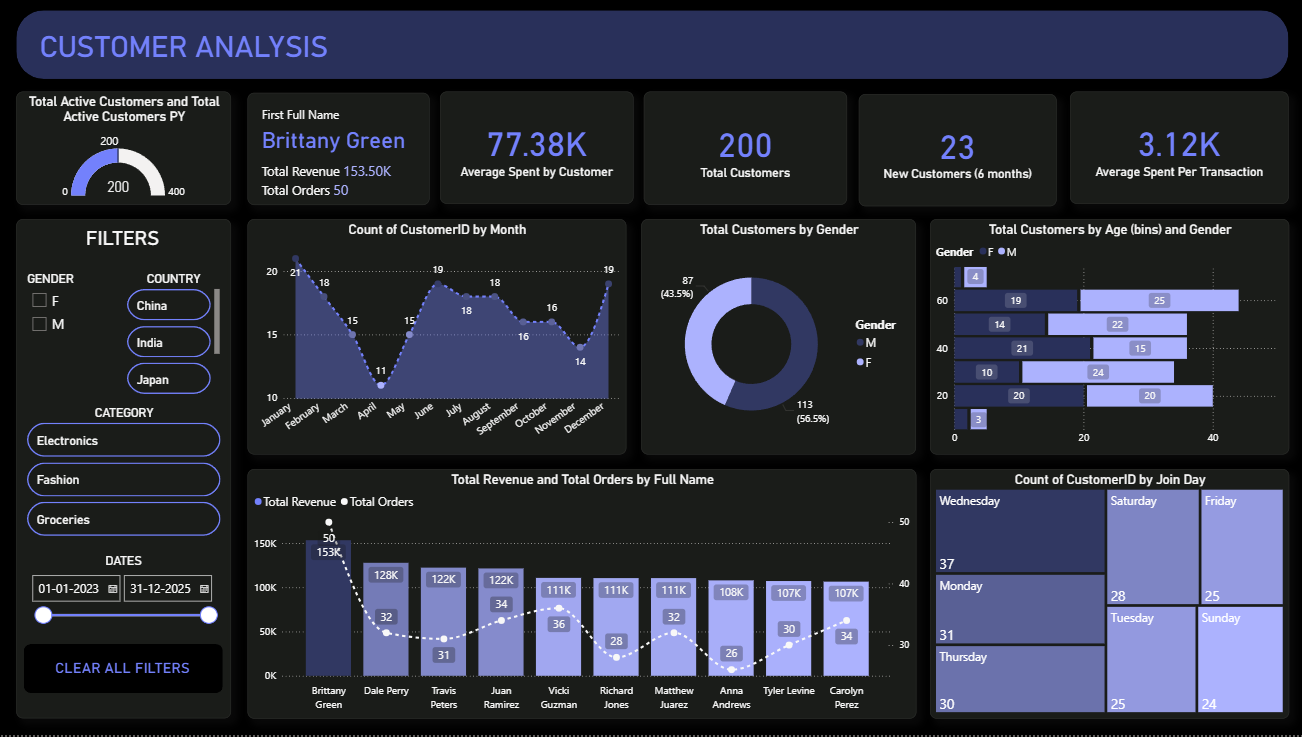

The dashboard page shown, as its layout file describes it:
{"tool":"powerbi","page":{"name":"Customer Analysis","canvas":[1920,1080],"ordinal":3},"visuals":[{"type":"shape","box":[24.7,16.5,1866.9,100.9],"z":0},{"type":"barChart","fields":{"Category":["customers.Age (bins)"],"Y":["Measures Table.Total Customers"],"Series":["customers.Gender"]},"box":[1364.7,323.2,526.9,345.8],"z":1000},{"type":"donutChart","fields":{"Y":["Measures Table.Total Customers"],"Category":["customers.Gender"]},"box":[940.7,323.2,403.4,345.8],"z":2000},{"type":"lineStackedColumnComboChart","fields":{"Y":["Measures Table.Total Revenue"],"Category":["customers.Full Name"],"Y2":["Measures Table.Total Orders"]},"box":[362.3,689.5,981.8,366.4],"z":3000},{"type":"areaChart","fields":{"Y":["CountNonNull(customers.CustomerID)"],"Category":["customers.joindate.Variation.Date Hierarchy.Year","customers.joindate.Variation.Date Hierarchy.Quarter","customers.joindate.Variation.Date Hierarchy.Month","customers.joindate.Variation.Date Hierarchy.Day"]},"box":[362.3,323.2,555.7,345.8],"z":4000},{"type":"treemap","fields":{"Group":["customers.Join Day"],"Values":["CountNonNull(customers.CustomerID)"]},"box":[1364.7,689.5,526.9,366.4],"z":5000},{"type":"group","id":"g1","title":"Group 1","box":[24.7,323.2,314.9,732.8],"z":6000},{"type":"textbox","box":[53.5,41.2,504.3,76.2],"z":7000},{"type":"cardVisual","fields":{"Data":["Min(customers.Full Name)"]},"box":[362.3,137.9,267.6,164.7],"z":8000},{"type":"card","fields":{"Values":["Measures Table.Average Spent by Customer"]},"box":[646.3,135.8,284,164.7],"z":9000},{"type":"card","fields":{"Values":["Measures Table.Total Customers"]},"box":[944.8,135.8,298.5,166.7],"z":10000},{"type":"shape","box":[24.7,323.2,314.9,732.8],"z":10000,"group":"g1"},{"type":"card","fields":{"Values":["Measures Table.New Customers (6 months)"]},"box":[1259.7,140,290.2,164.7],"z":11000},{"type":"card","fields":{"Values":["Measures Table.Average Spent Per Transaction"]},"box":[1570.5,135.8,321.1,164.7],"z":12000},{"type":"advancedSlicerVisual","title":"COUNTRY","fields":{"Values":["stores.Country"]},"box":[183.2,399.4,146.1,187.3],"z":12000,"group":"g1"},{"type":"gauge","fields":{"TargetValue":["Measures Table.Total Active Customers PY"],"Y":["Measures Table.Total Active Customers"]},"box":[24.7,135.8,314.9,166.7],"z":13000},{"type":"advancedSlicerVisual","title":"CATEGORY","fields":{"Values":["products.Category"]},"box":[35,597,294.3,199.7],"z":13000,"group":"g1"},{"type":"slicer","title":"GENDER","fields":{"Values":["customers.Gender"]},"box":[35,399.4,148.2,160.5],"z":14000,"group":"g1"},{"type":"slicer","title":"DATES","fields":{"Values":["Dates.Date"]},"box":[35,815.1,292.3,117.3],"z":15000,"group":"g1"},{"type":"shape","title":"CLEAR ALL FILTER","box":[35,946.9,292.3,72],"z":16000,"group":"g1"},{"type":"textbox","box":[53.5,965.4,253.2,35],"z":17000,"group":"g1"},{"type":"textbox","box":[39.1,328,282,43.2],"z":18000,"group":"g1"}]}

Visuals, with their boxes in screenshot pixels (x1, y1, x2, y2), scaled from the page's 1920x1080 canvas onto the 1302x737 screenshot:
shape: BBox(17, 11, 1283, 80)
barChart - customers.Age (bins) x Measures Table.Total Customers: BBox(925, 221, 1283, 457)
donutChart - Measures Table.Total Customers x customers.Gender: BBox(638, 221, 911, 457)
lineStackedColumnComboChart - Measures Table.Total Revenue x customers.Full Name: BBox(246, 471, 911, 721)
areaChart - CountNonNull(customers.CustomerID) x customers.joindate.Variation.Date Hierarchy.Year: BBox(246, 221, 623, 457)
treemap - customers.Join Day x CountNonNull(customers.CustomerID): BBox(925, 471, 1283, 721)
"Group 1" group: BBox(17, 221, 230, 721)
textbox: BBox(36, 28, 378, 80)
cardVisual - Min(customers.Full Name): BBox(246, 94, 427, 206)
card - Measures Table.Average Spent by Customer: BBox(438, 93, 631, 205)
card - Measures Table.Total Customers: BBox(641, 93, 843, 206)
shape: BBox(17, 221, 230, 721)
card - Measures Table.New Customers (6 months): BBox(854, 96, 1051, 208)
card - Measures Table.Average Spent Per Transaction: BBox(1065, 93, 1283, 205)
"COUNTRY" advancedSlicerVisual: BBox(124, 273, 223, 400)
gauge - Measures Table.Total Active Customers PY x Measures Table.Total Active Customers: BBox(17, 93, 230, 206)
"CATEGORY" advancedSlicerVisual: BBox(24, 407, 223, 544)
"GENDER" slicer: BBox(24, 273, 124, 382)
"DATES" slicer: BBox(24, 556, 222, 636)
"CLEAR ALL FILTER" shape: BBox(24, 646, 222, 695)
textbox: BBox(36, 659, 208, 683)
textbox: BBox(27, 224, 218, 253)
